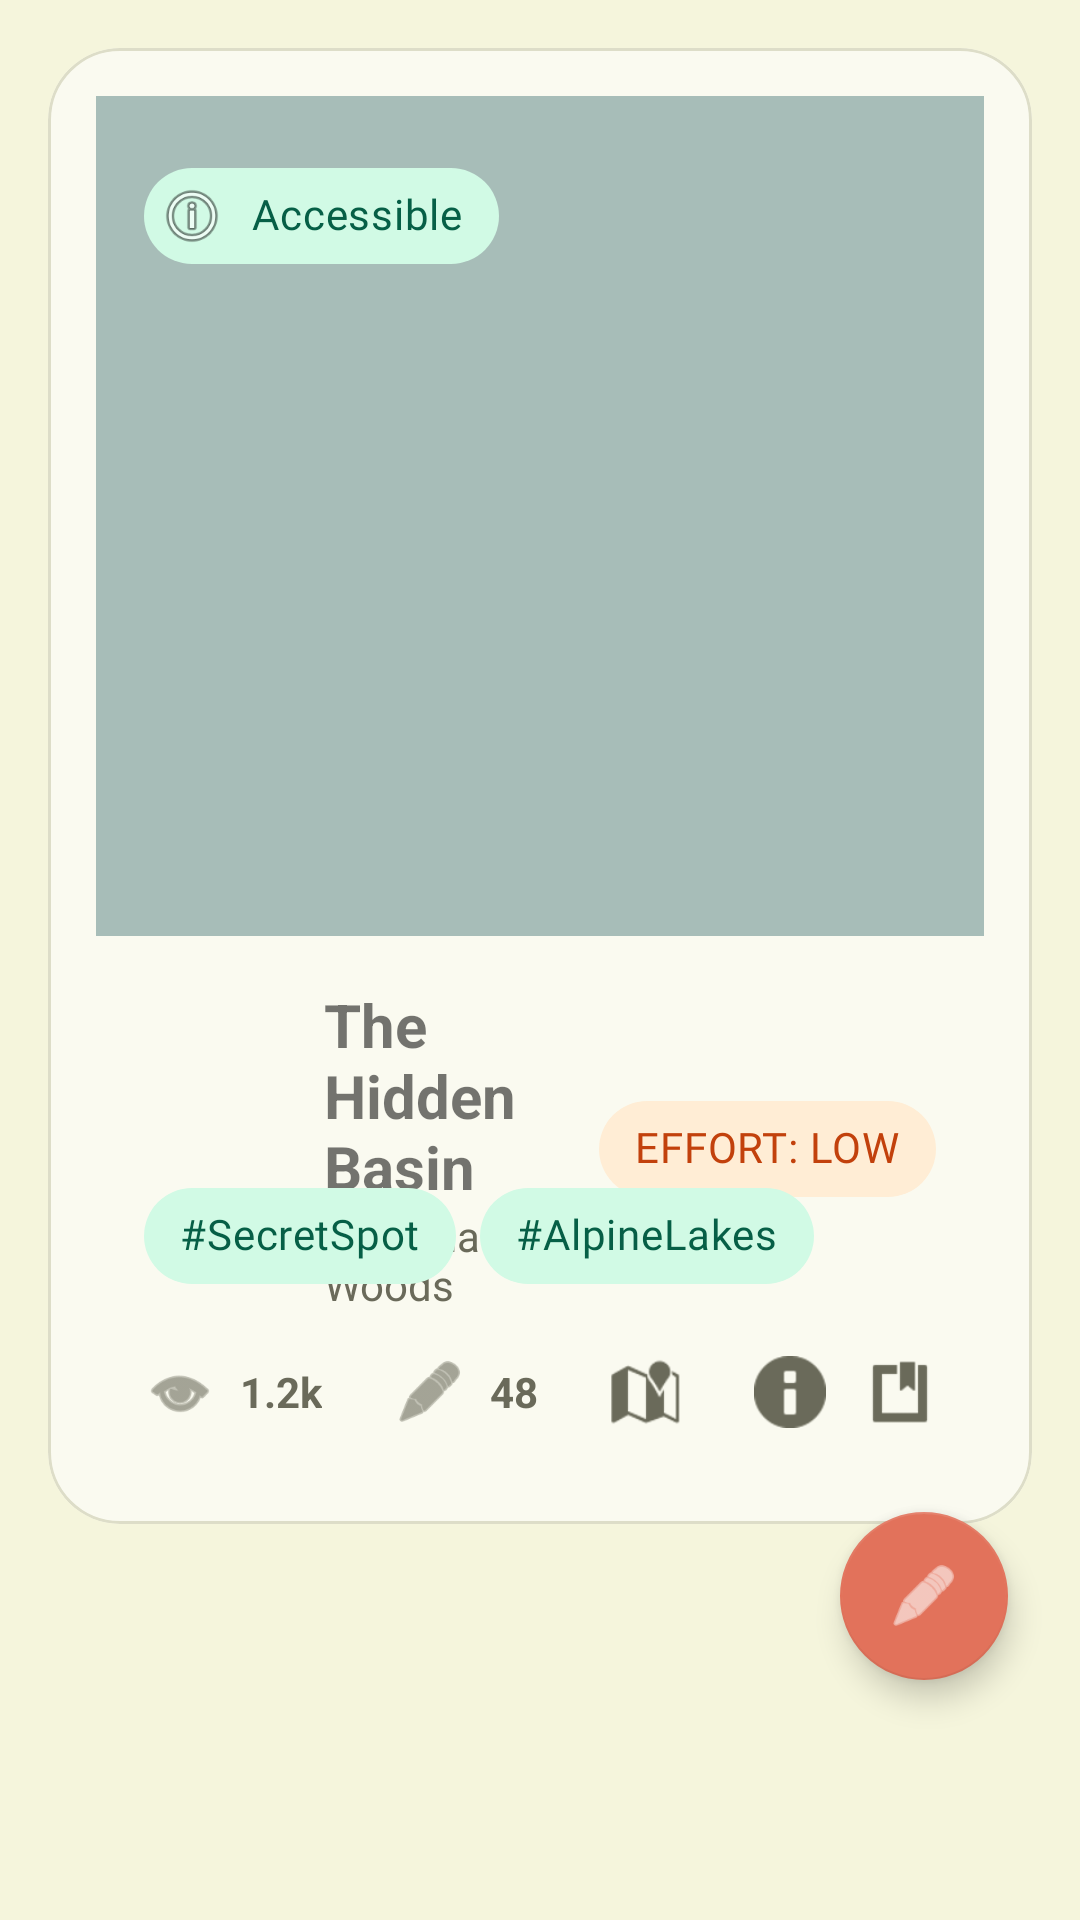

Screen size 1080px x 1920px. Icon name, then its center in pixels as [x,y]:
edit: [429,1391], [924,1596]
info: [790,1392]
map: [645,1392]
view: [180,1394]
